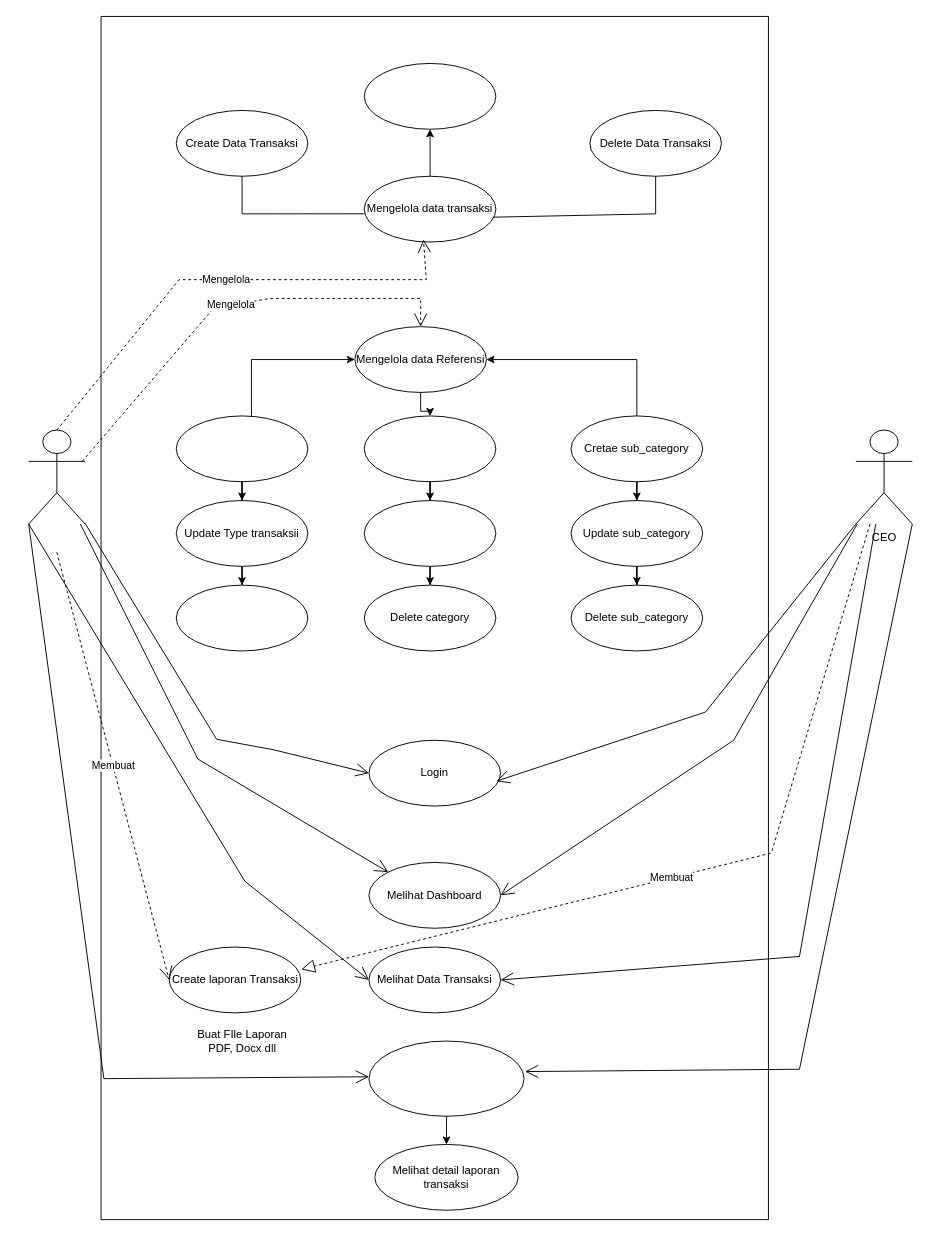
The diagram is 942 pixels wide and 1236 high, and some of its shapes have lost their labels. Each missing label, with the box of its shape:
Admin: (28, 429, 85, 524)
Create Type transaksii: (175, 415, 308, 482)
Cretae category: (363, 415, 496, 482)
Delete Type transaksii: (175, 584, 308, 651)
Mendapat notifikasi laporan Transaksi: (368, 1040, 524, 1116)
Update category: (363, 500, 496, 566)
Update Data Transaksi: (363, 63, 496, 129)
